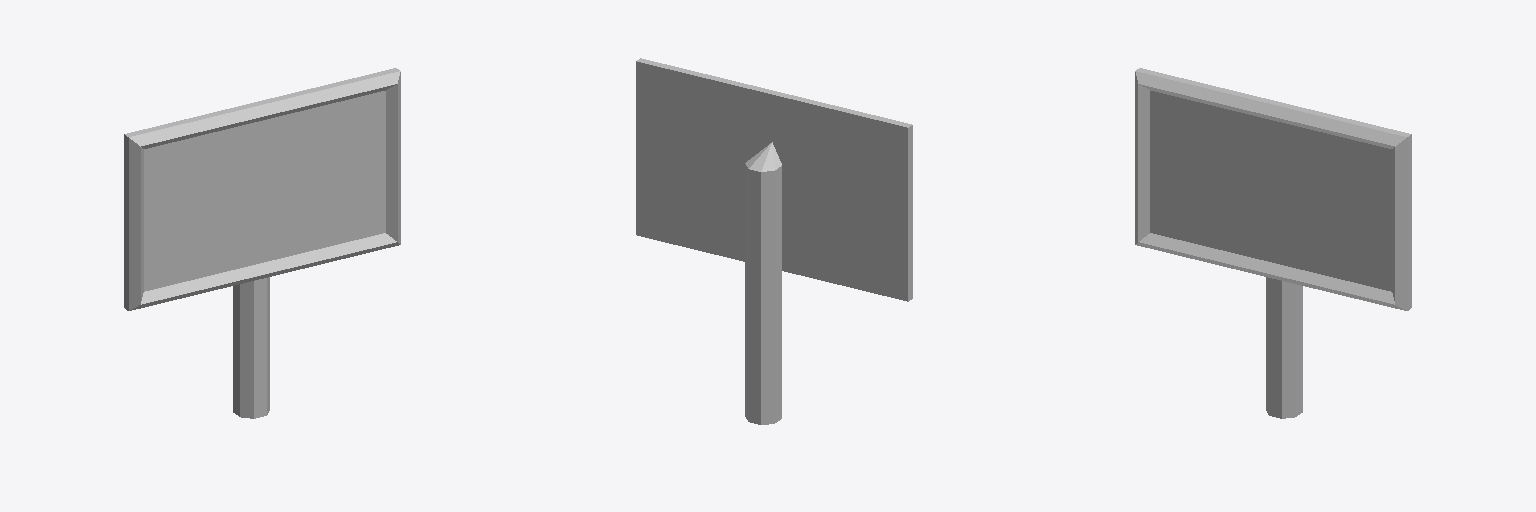
Rendered from sign_edge.obj.
3 views of the same model, side by side, from view 1: azimuth 30°, elevation 25°; view 2: azimuth 150°, elevation 25°; view 3: azimuth 330°, elevation 25° (orthographic).
Visible parts, largest first — view 1: Mesh2 Group3 Group1 Model, Mesh1 Group2 Group1 Model; view 2: Mesh2 Group3 Group1 Model, Mesh1 Group2 Group1 Model; view 3: Mesh2 Group3 Group1 Model, Mesh1 Group2 Group1 Model.
Part boxes in pixels (left/top/right/bottom): Mesh2 Group3 Group1 Model: left=124, top=68, right=400, bottom=310; Mesh1 Group2 Group1 Model: left=233, top=149, right=269, bottom=418; Mesh2 Group3 Group1 Model: left=636, top=58, right=912, bottom=301; Mesh1 Group2 Group1 Model: left=745, top=142, right=781, bottom=424; Mesh2 Group3 Group1 Model: left=1135, top=68, right=1411, bottom=310; Mesh1 Group2 Group1 Model: left=1266, top=150, right=1302, bottom=418.
Size of the model in its own units: 36 by 40 by 6.